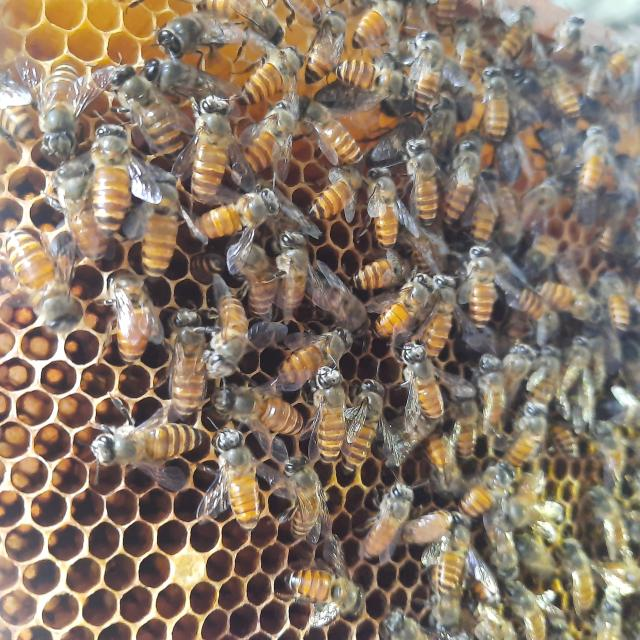honeybee: (0, 225, 81, 328), (74, 143, 160, 237), (77, 408, 191, 472), (196, 426, 273, 520), (163, 304, 224, 422), (163, 20, 268, 86), (190, 99, 246, 196), (188, 199, 296, 247), (106, 264, 162, 356), (293, 114, 376, 174), (30, 61, 104, 128), (276, 553, 361, 611), (576, 476, 636, 558), (121, 71, 192, 140), (203, 280, 260, 365), (459, 356, 514, 436), (560, 534, 604, 630), (455, 234, 512, 306), (257, 100, 323, 160), (580, 395, 632, 471), (296, 374, 344, 456), (386, 356, 446, 420), (359, 171, 410, 244), (268, 257, 326, 321), (359, 474, 410, 545), (532, 265, 594, 321), (422, 527, 474, 589), (267, 334, 364, 367), (427, 158, 482, 214), (344, 377, 382, 458), (530, 58, 580, 119), (451, 476, 530, 514), (240, 62, 308, 106), (423, 272, 455, 364), (406, 142, 444, 219), (466, 74, 509, 135), (482, 178, 516, 252), (379, 280, 428, 331), (351, 236, 403, 284), (497, 404, 535, 469), (520, 348, 563, 403), (293, 31, 357, 66), (354, 54, 402, 100), (413, 36, 443, 106), (566, 138, 618, 170)
